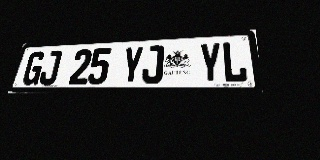2: (68, 49, 93, 85)
5: (87, 48, 112, 85)
G: (21, 51, 46, 85)
J: (141, 45, 164, 84), (38, 50, 63, 85)
L: (222, 41, 248, 83)
Y: (199, 42, 222, 83), (120, 46, 144, 84)
